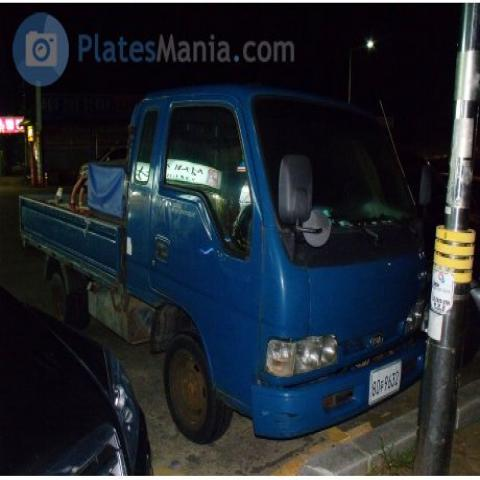LP: (359, 344, 408, 412)
